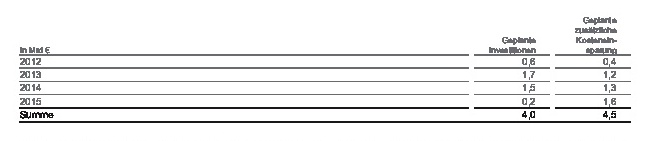table: (0, 0, 647, 141)
